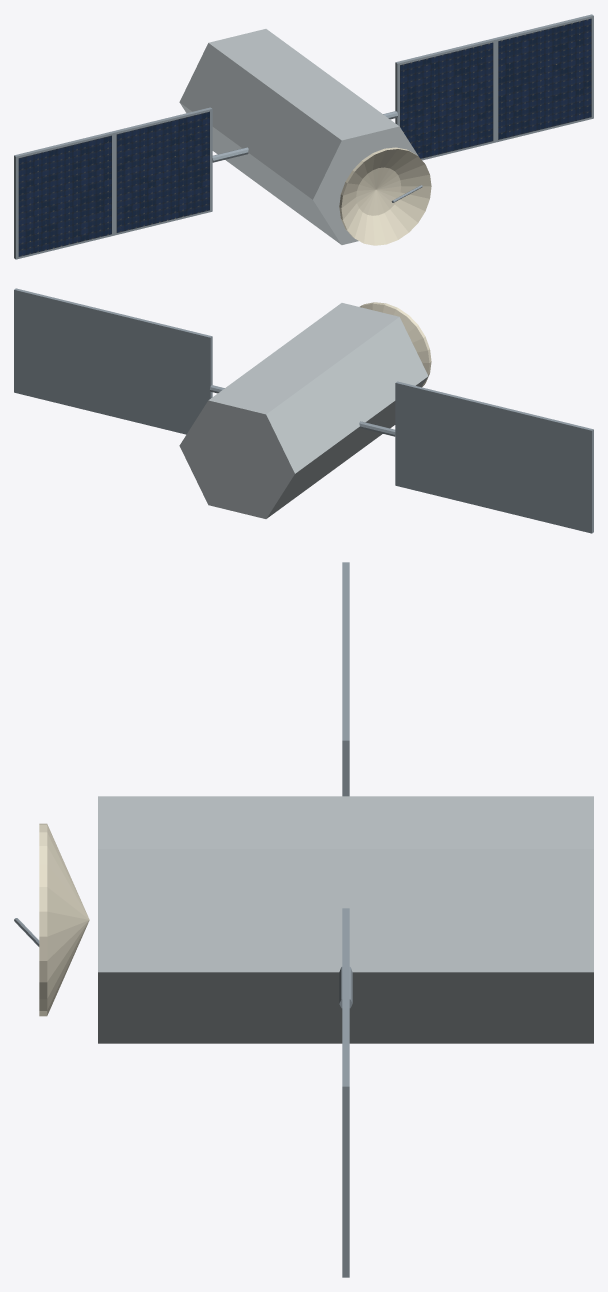
Rendered from ref-techsar-34807.glb.
3 renders of one model, top to bottom at view 1: azimuth 30°, elevation 25°; view 2: azimuth 150°, elevation 25°; view 3: azimuth 270°, elevation 25°, orthographic. The views are drawn at different scales.
Parts seen in each view (by area): view 1: Photovoltaic laminates (×4), Spacecraft body, Reflector dish, Array frame (×4); view 2: Array frame (×4), Spacecraft body, Reflector dish; view 3: Spacecraft body, Reflector dish, Array frame (×2).
Boxes of the visible parts, box(x1,y1,x2,y2) form: Photovoltaic laminates (×4): box(18, 18, 591, 256); Spacecraft body: box(179, 29, 418, 244); Reflector dish: box(339, 147, 431, 245); Array frame (×4): box(14, 14, 593, 259); Array frame (×4): box(14, 288, 593, 533); Spacecraft body: box(179, 303, 428, 518); Reflector dish: box(359, 302, 431, 386); Spacecraft body: box(98, 796, 593, 1043); Reflector dish: box(39, 823, 89, 1016); Array frame (×2): box(342, 651, 349, 1277).
Size of the model in its own units: 5 by 0.866 by 2.34.
4 materials, 1 textured.
